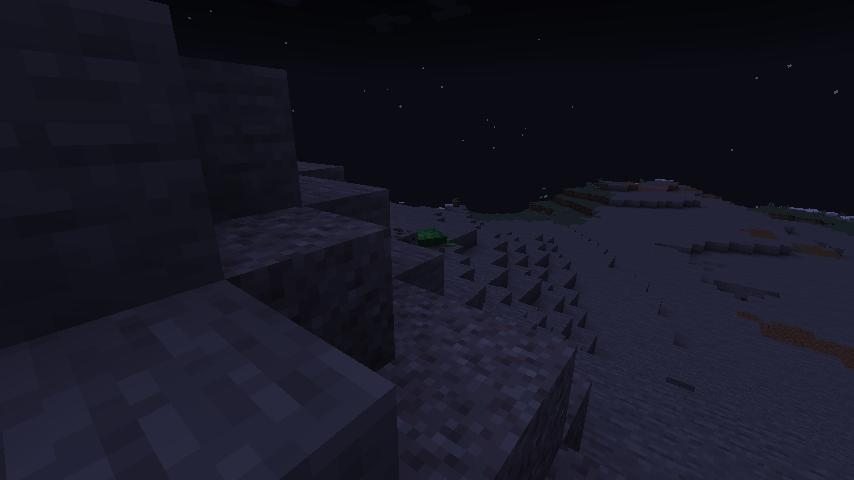turtle: (411, 226, 456, 255)
